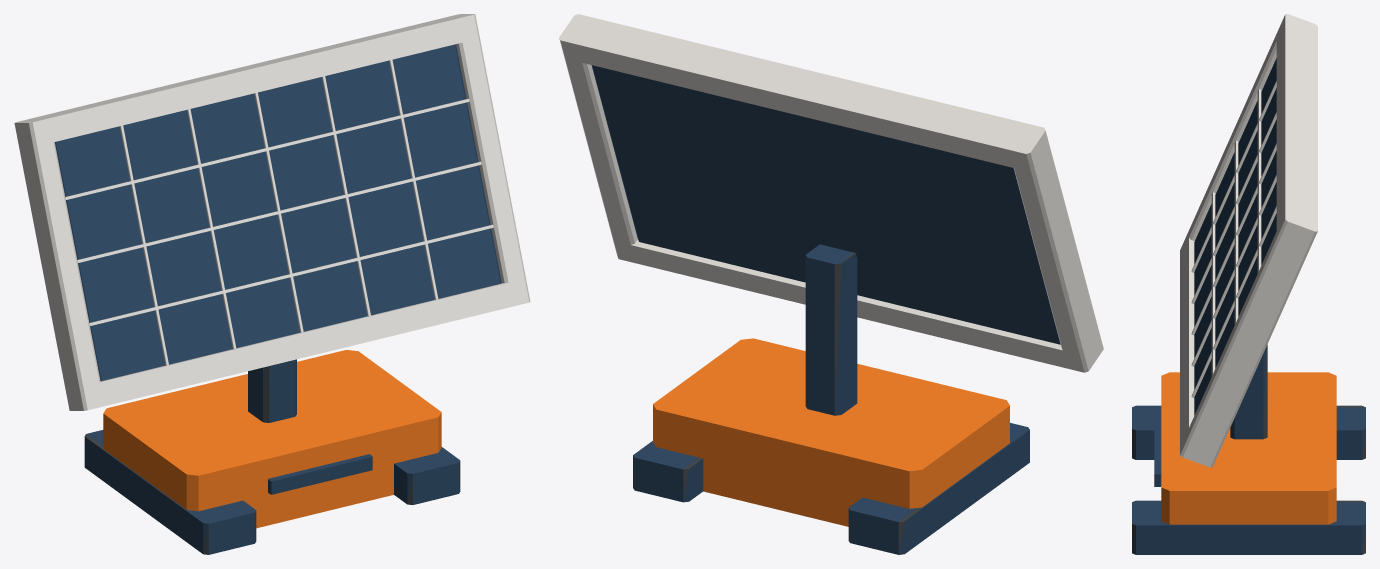
File: solar_panel.glb
3 renders of one model, left to right at view 1: azimuth 30°, elevation 25°; view 2: azimuth 150°, elevation 25°; view 3: azimuth 270°, elevation 25°, orthographic. The views are drawn at different scales.
Visible parts, largest first — view 1: panel, base, frame_top, frame_bottom, frame_left, cell_divider (×8), foot (×2), frame_right, mast, battery_indicator; view 2: panel, base, frame_top, foot (×2), frame_left, frame_bottom, mast, frame_right; view 3: base, foot (×2), panel, frame_right, frame_top, cell_divider (×8), frame_bottom, frame_left, mast, battery_indicator.
Part boxes in pixels (x1=…): panel: x1=54, y1=44, x2=501, y2=381; base: x1=103, y1=350, x2=441, y2=528; frame_top: x1=24, y1=16, x2=473, y2=144; frame_bottom: x1=88, y1=280, x2=523, y2=408; frame_left: x1=14, y1=118, x2=103, y2=410; cell_divider (×8): x1=65, y1=59, x2=493, y2=365; foot (×2): x1=84, y1=430, x2=460, y2=554; frame_right: x1=440, y1=14, x2=530, y2=304; mast: x1=248, y1=359, x2=296, y2=422; battery_indicator: x1=268, y1=454, x2=372, y2=494; panel: x1=591, y1=65, x2=1060, y2=344; base: x1=653, y1=338, x2=1009, y2=526; frame_top: x1=565, y1=15, x2=1039, y2=170; foot (×2): x1=633, y1=423, x2=1029, y2=554; frame_left: x1=1008, y1=124, x2=1103, y2=372; frame_bottom: x1=619, y1=239, x2=1078, y2=371; mast: x1=805, y1=244, x2=857, y2=415; frame_right: x1=559, y1=14, x2=637, y2=262; base: x1=1161, y1=372, x2=1336, y2=524; foot (×2): x1=1132, y1=405, x2=1365, y2=554; panel: x1=1194, y1=58, x2=1276, y2=415; frame_right: x1=1180, y1=212, x2=1317, y2=467; frame_top: x1=1276, y1=16, x2=1317, y2=235; cell_divider (×8): x1=1191, y1=80, x2=1276, y2=397; frame_bottom: x1=1180, y1=233, x2=1194, y2=452; frame_left: x1=1180, y1=14, x2=1317, y2=255; mast: x1=1230, y1=344, x2=1267, y2=439; battery_indicator: x1=1154, y1=427, x2=1161, y2=486.
Bounding box in the file's own units: 2.1 × 1.78 × 1.
